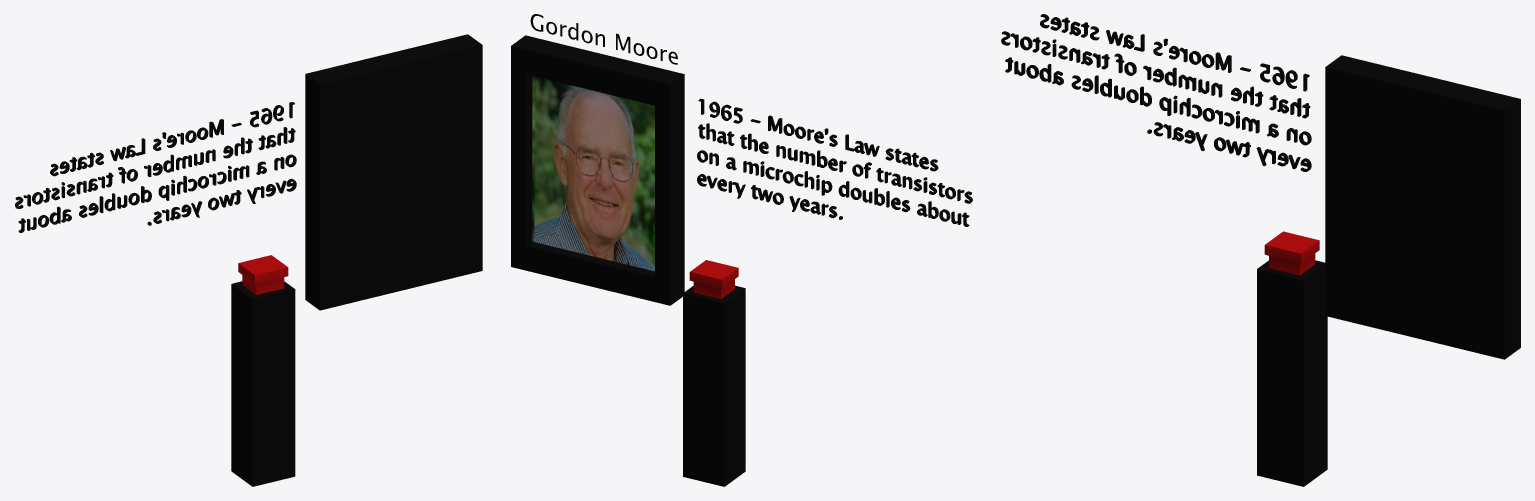
The picture shows the model from 3 angles, left to right: view 1: azimuth 30°, elevation 25°; view 2: azimuth 150°, elevation 25°; view 3: azimuth 330°, elevation 25°; orthographic projection. The views are drawn at different scales.
Parts seen in each view (by area): view 1: typeMesh53, polySurface4278; view 2: typeMesh53, polySurface4278; view 3: typeMesh53, polySurface4278.
Boxes of the visible parts, <box> form: typeMesh53: <box>15,34,482,310</box>; polySurface4278: <box>231,255,295,486</box>; typeMesh53: <box>511,14,972,305</box>; polySurface4278: <box>683,260,745,486</box>; typeMesh53: <box>1001,14,1520,359</box>; polySurface4278: <box>1257,231,1327,486</box>.
Size of what is drawn, in the model's own units: 4.48 by 3.88 by 0.4027.
4 materials, 1 textured.
